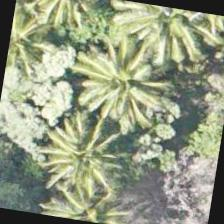Kelapa_Sawit: (64, 32, 167, 136), (28, 104, 130, 207), (110, 0, 208, 71), (43, 164, 142, 223), (3, 0, 65, 87)
